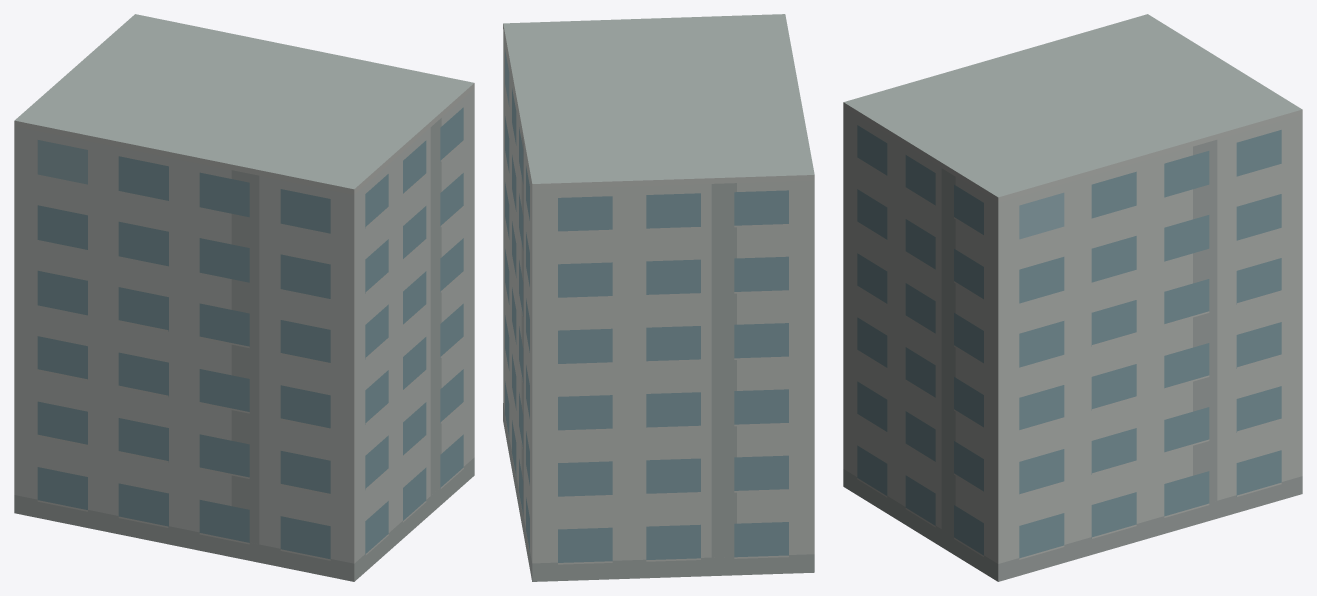
File: survey-upis-32882705.glb
3 renders of one model, left to right at view 1: azimuth 30°, elevation 25°; view 2: azimuth 150°, elevation 25°; view 3: azimuth 270°, elevation 25°, orthographic. The views are drawn at different scales.
Parts seen in each view (by area): view 1: survey-upis-32882705.tmp; view 2: survey-upis-32882705.tmp; view 3: survey-upis-32882705.tmp.
Boxes of the visible parts, x1,y1,x2,y2 form: survey-upis-32882705.tmp: (14, 14, 474, 581); survey-upis-32882705.tmp: (503, 14, 814, 581); survey-upis-32882705.tmp: (843, 14, 1302, 581).
Size of the model in its own units: 17.5 by 17.1 by 18.51.
